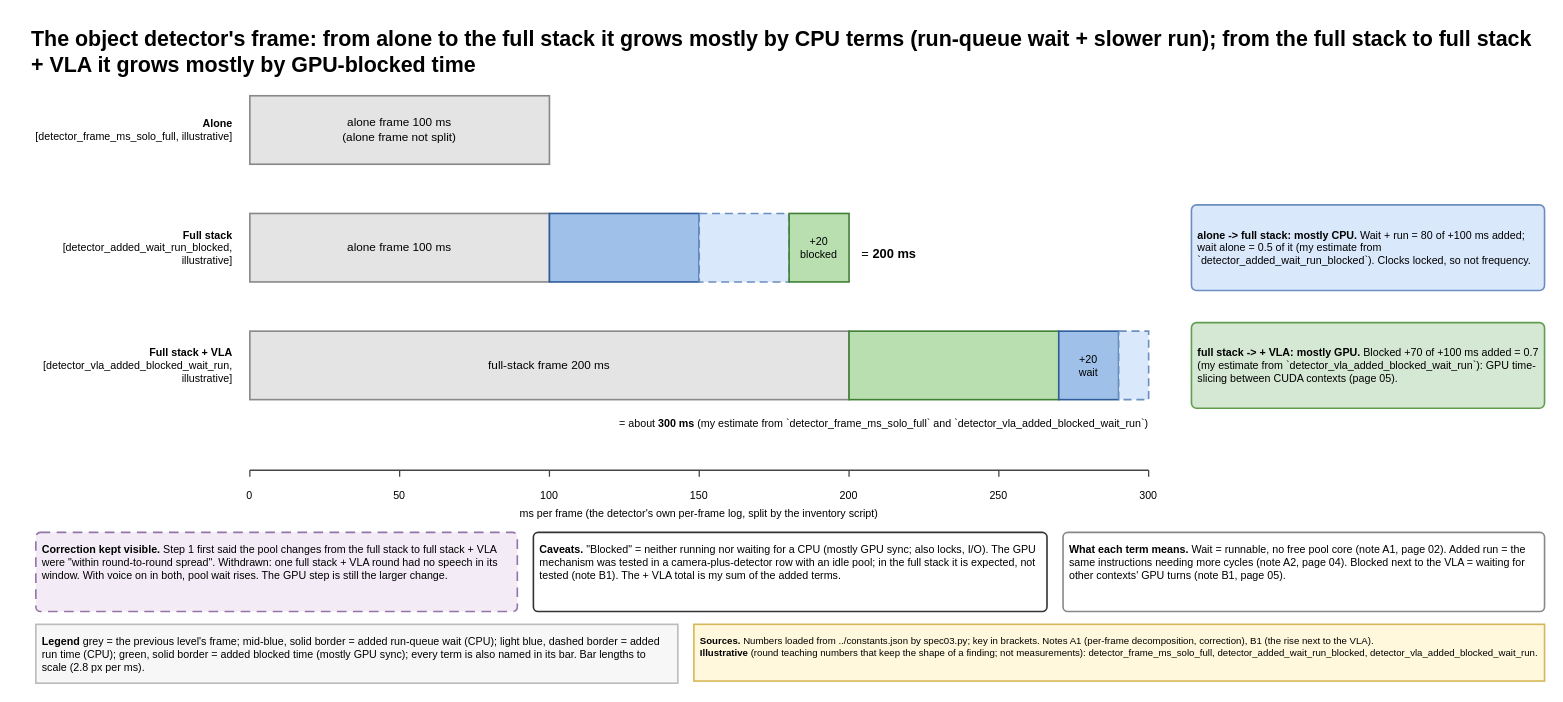
Image size: 1563x702. Some labels were removed from this diagram. Each missing label, with the centre of its shape:
"+10 run" goes at point (1133, 365).
"+30 run" goes at point (743, 247).
"+50 wait" goes at point (624, 247).
"+70 blocked" goes at point (953, 365).
